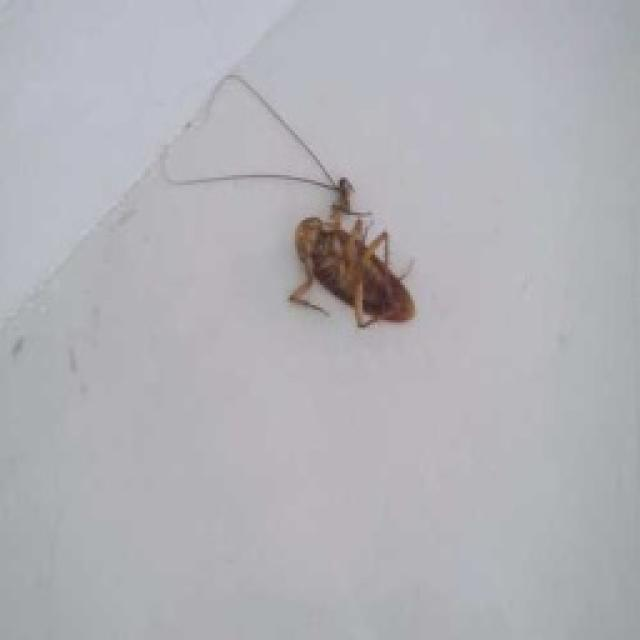cockroach: (237, 156, 446, 362)
